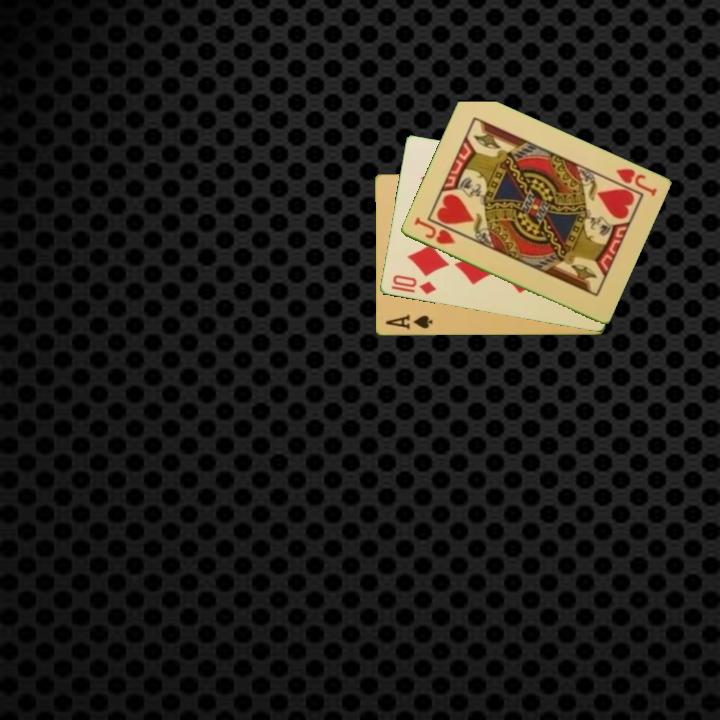10d: (389, 271, 439, 298)
As: (382, 311, 435, 332)
Jh: (410, 214, 458, 248), (612, 165, 659, 199)
